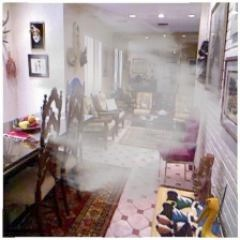smoke: (76, 87, 165, 178)
